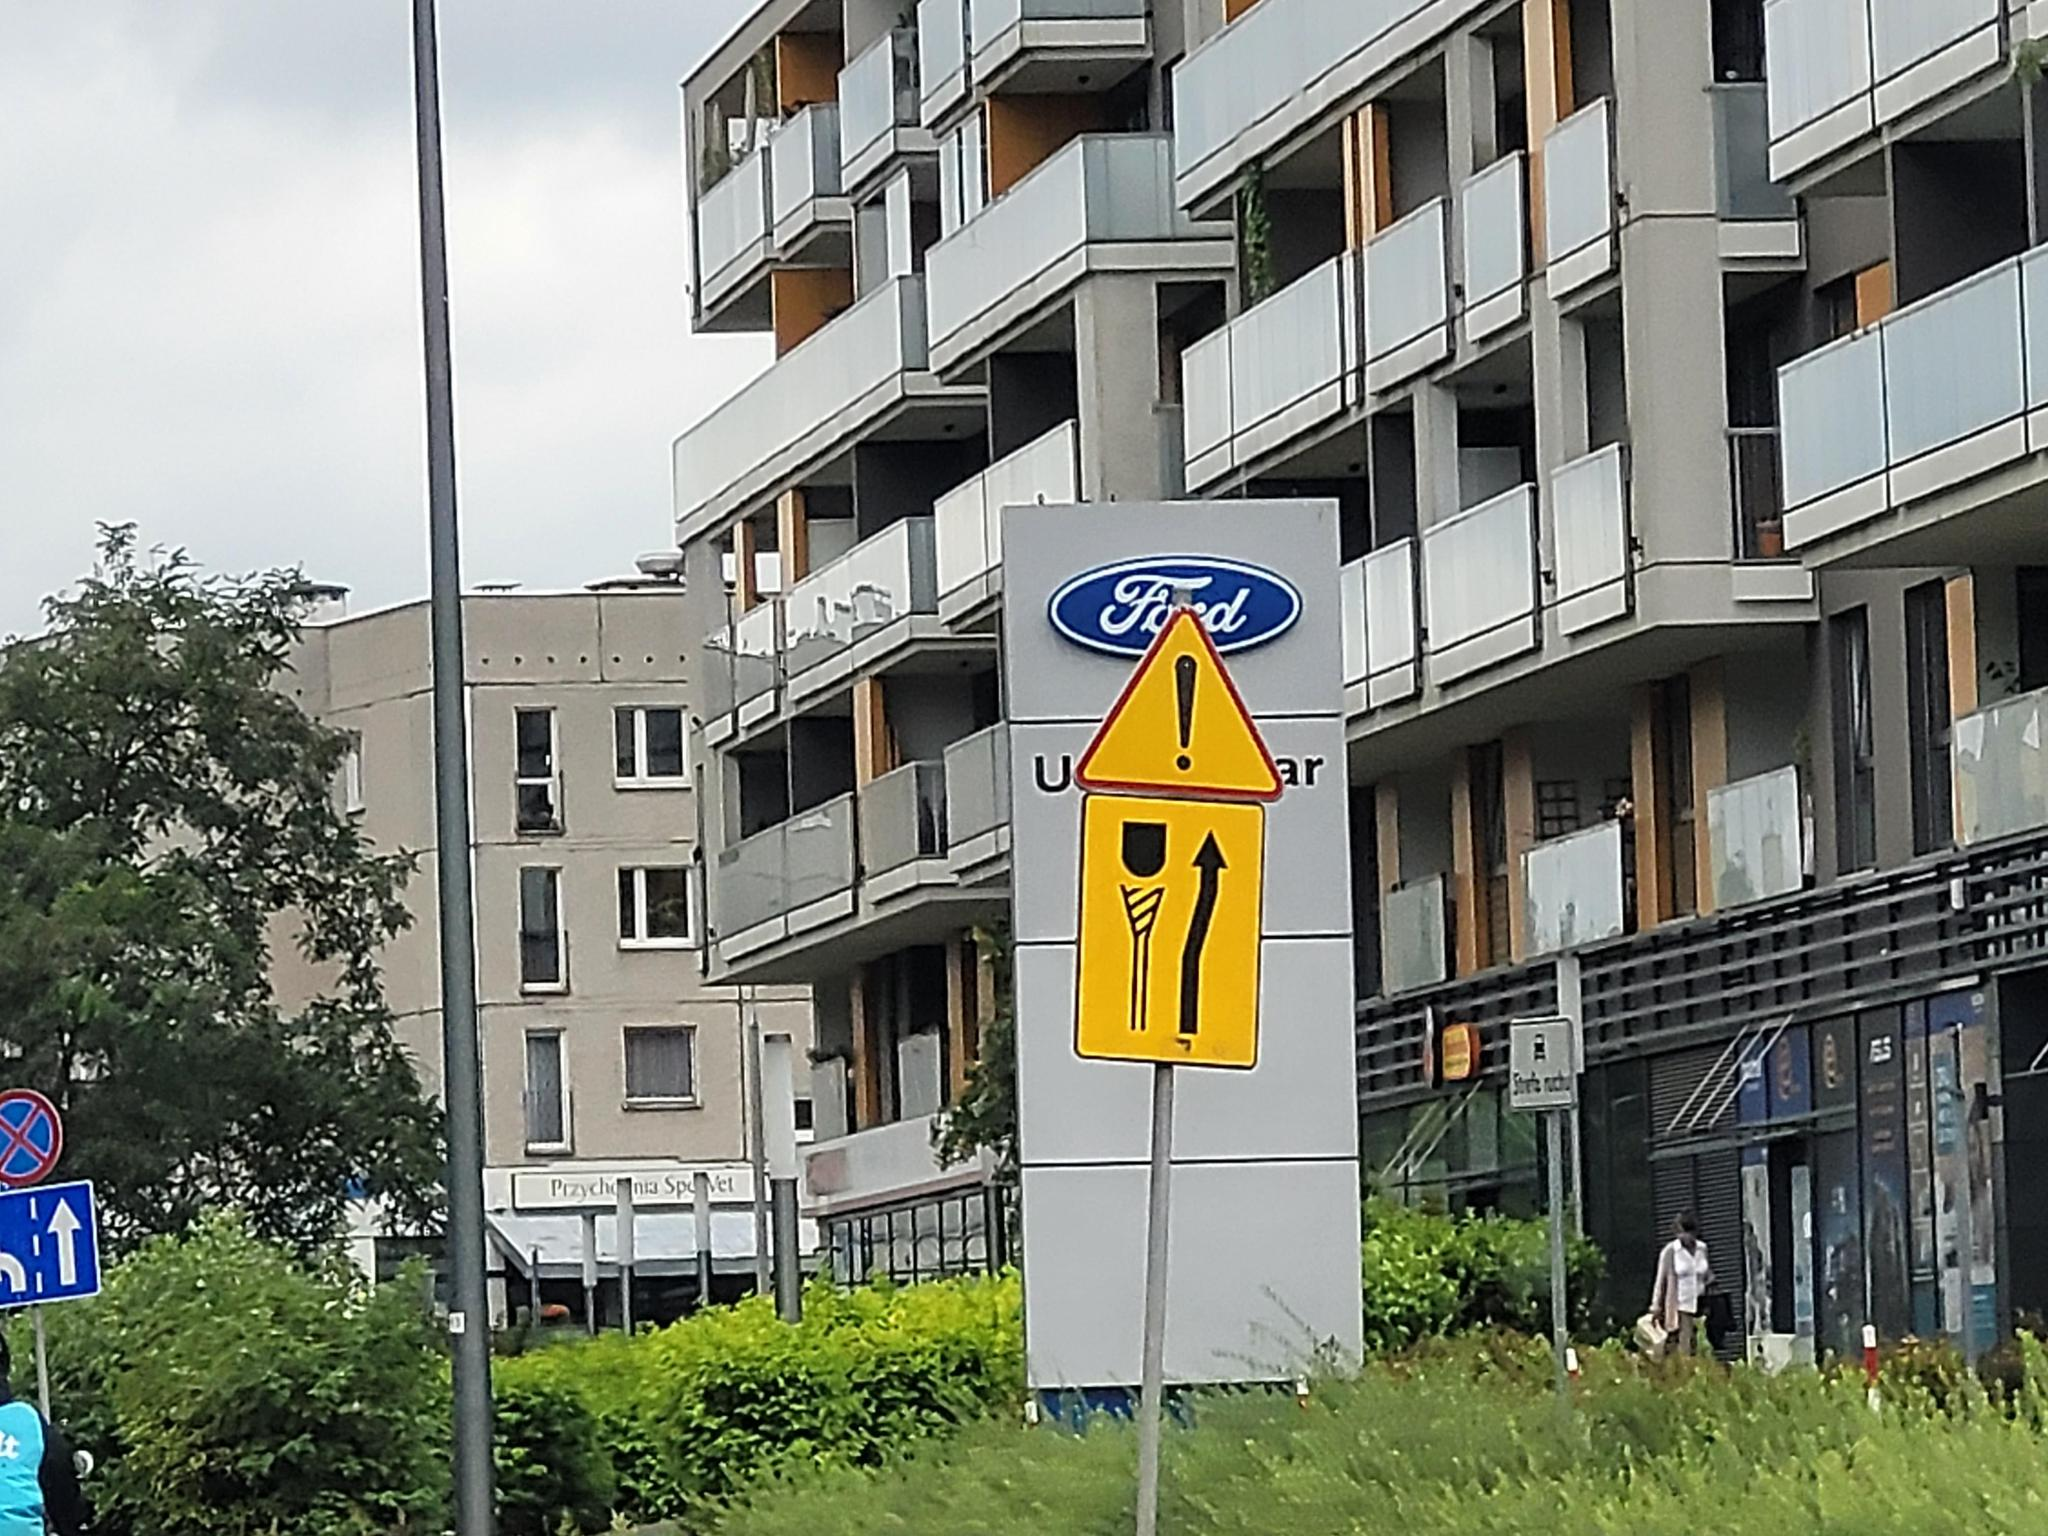other: (1082, 800, 1263, 1065), (0, 1191, 94, 1304)
prohibitory: (0, 1087, 66, 1187)
warning: (1071, 605, 1285, 802)
